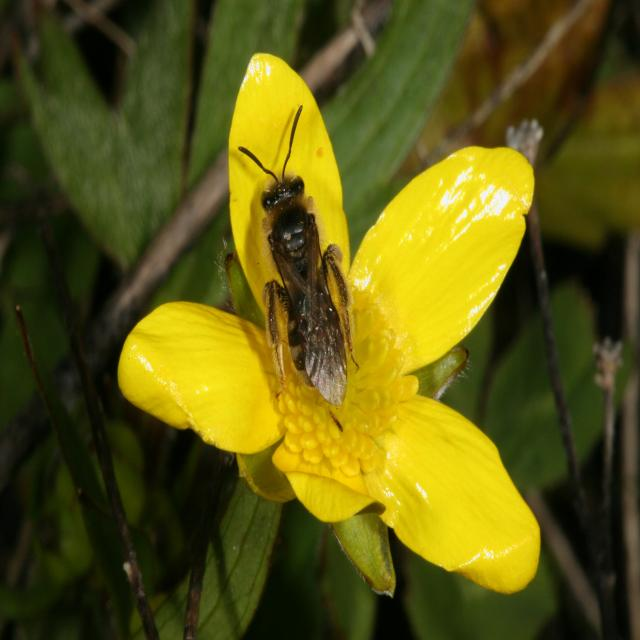Lasioglossum: (225, 88, 384, 422)
